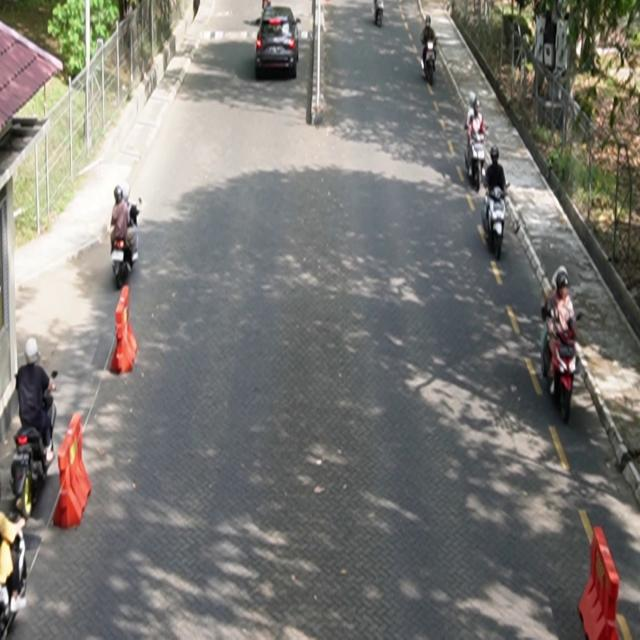car: (256, 6, 303, 80)
